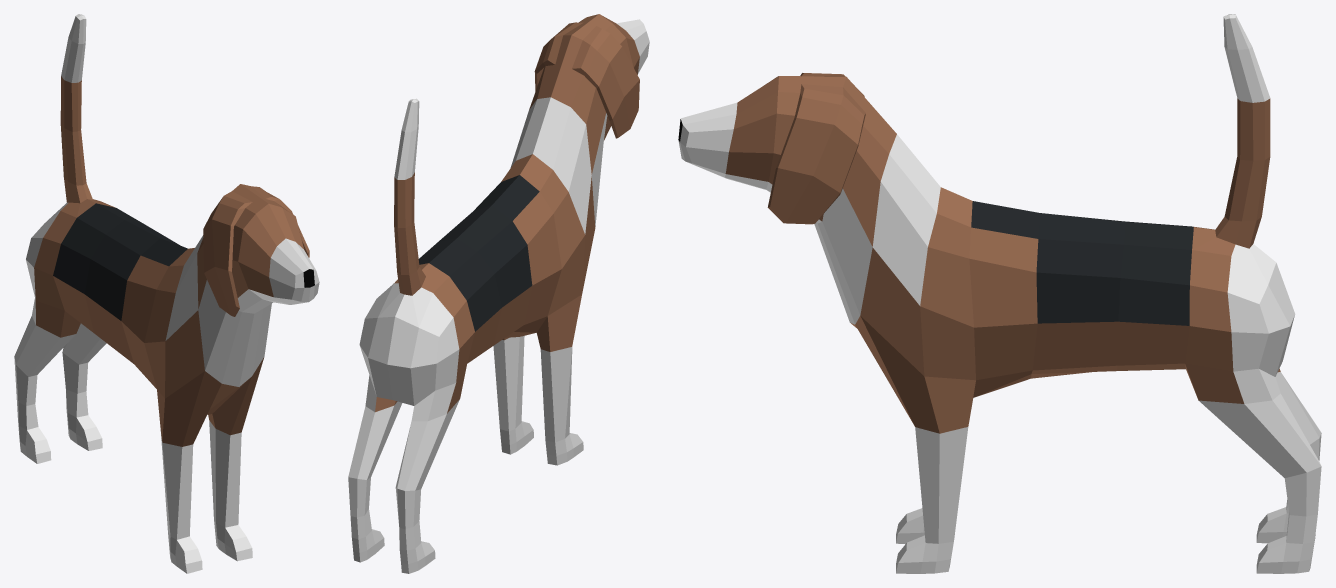
Rendered from Beagle.glb.
3 renders of one model, left to right at view 1: azimuth 30°, elevation 25°; view 2: azimuth 150°, elevation 25°; view 3: azimuth 270°, elevation 25°, orthographic. The views are drawn at different scales.
Visible parts, largest first — view 1: 20dogFinal; view 2: 20dogFinal; view 3: 20dogFinal.
Part boxes in pixels (x1=…): 20dogFinal: x1=14, y1=14, x2=319, y2=573; 20dogFinal: x1=348, y1=14, x2=649, y2=573; 20dogFinal: x1=678, y1=14, x2=1321, y2=573.
Bounding box in the file's own units: 0.2365 × 1.1 × 1.18.
Materials: 1 (1 with a texture image).
